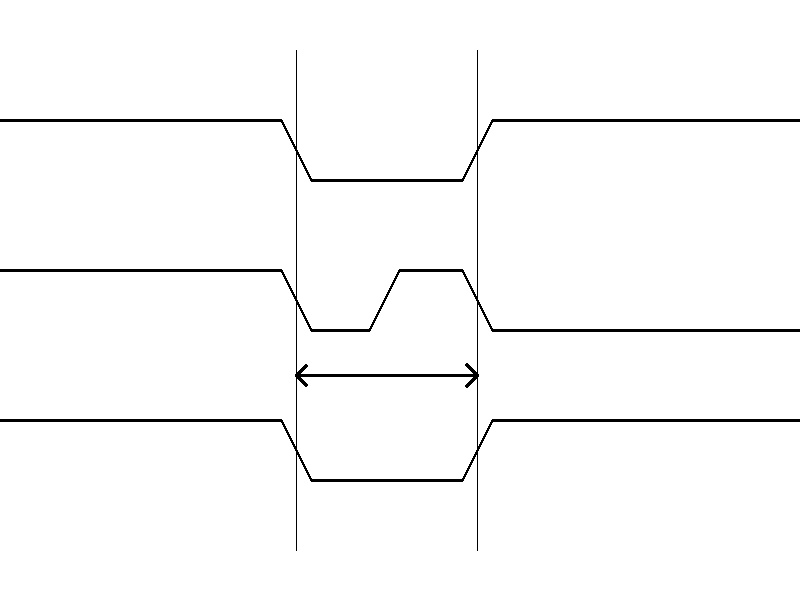double_arrow: (296, 360, 477, 390)
